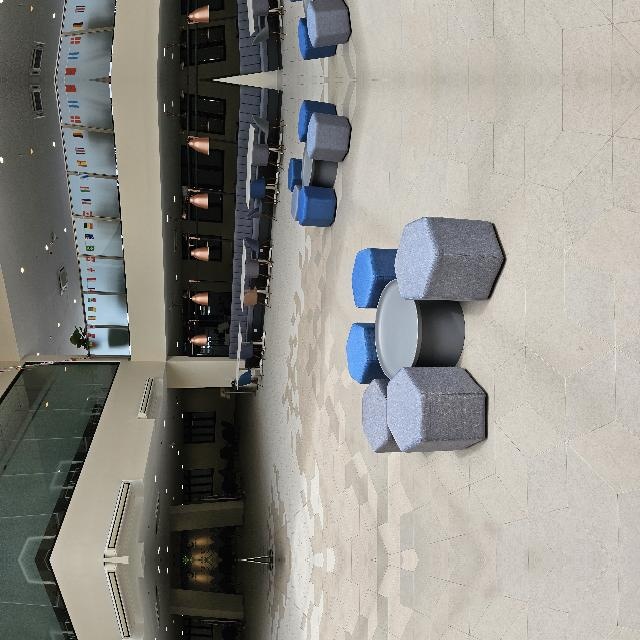obstacle: (90, 422, 348, 582), (89, 538, 348, 640), (332, 367, 464, 429)
